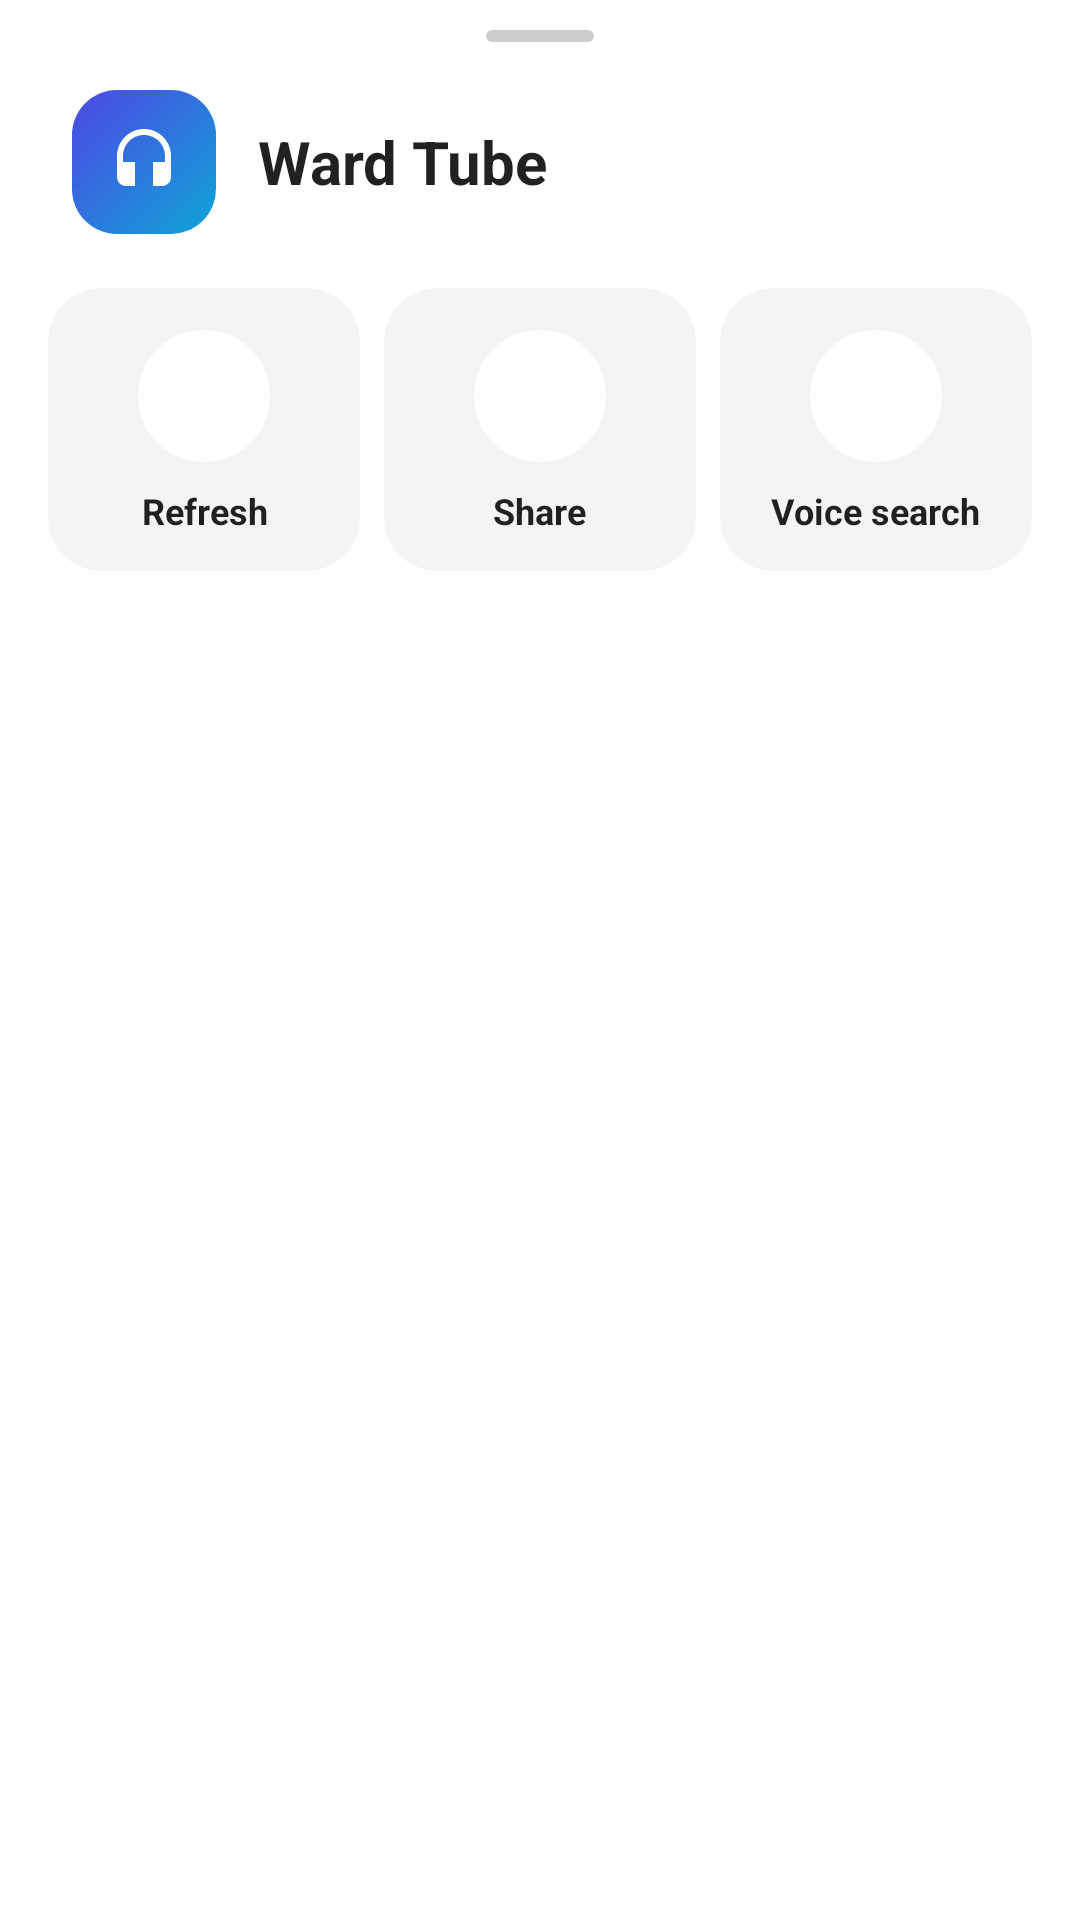

Where to tap for icons on this 1080×1920 app screen, as (x=x, y=y):
headphones: (x=144, y=162)
